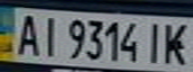1: (103, 18, 124, 62)
3: (84, 17, 106, 61)
4: (118, 18, 142, 64)
9: (63, 16, 87, 60)
A: (12, 10, 42, 57)
I: (139, 19, 169, 65), (36, 12, 63, 57)
K: (160, 19, 193, 66)
